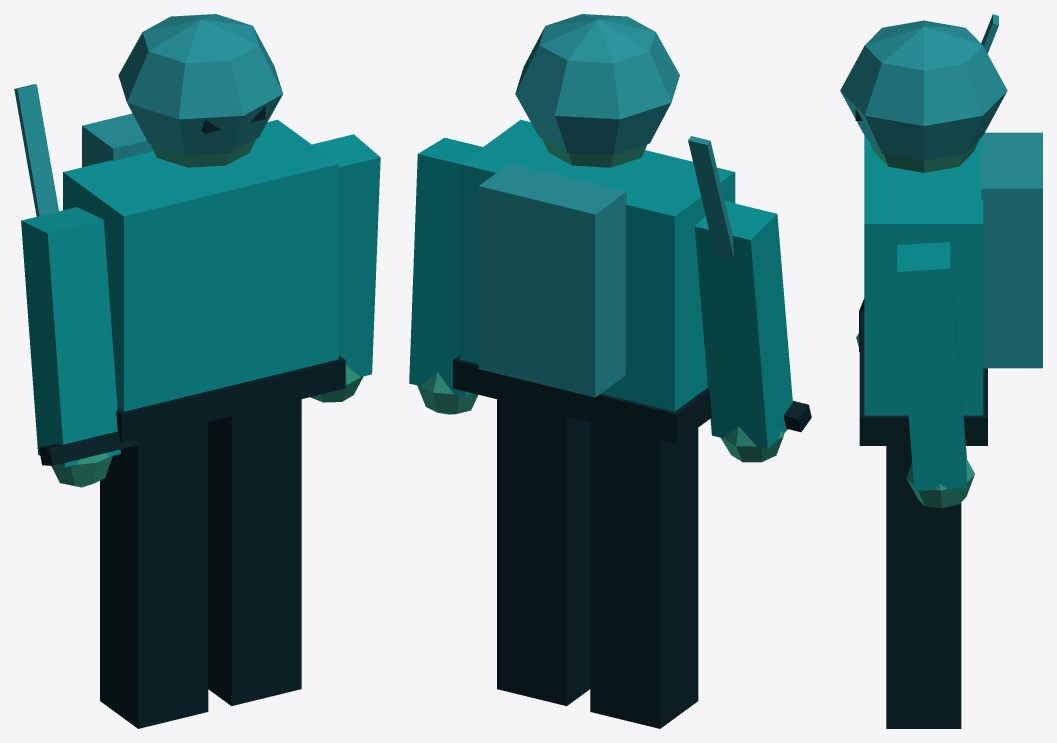
The model's file is SM_Champion_9019_Bit.glb.
3 views of the same model, side by side, from view 1: azimuth 30°, elevation 25°; view 2: azimuth 150°, elevation 25°; view 3: azimuth 270°, elevation 25° (orthographic).
Parts seen in each view (by area): view 1: SM_Champion_9019_Bit; view 2: SM_Champion_9019_Bit; view 3: SM_Champion_9019_Bit.
Part boxes in pixels (x1=…): SM_Champion_9019_Bit: x1=14, y1=14, x2=380, y2=728; SM_Champion_9019_Bit: x1=409, y1=14, x2=811, y2=728; SM_Champion_9019_Bit: x1=840, y1=14, x2=1042, y2=728.
Bounding box in the file's own units: 0.873 × 1.61 × 0.4462.
